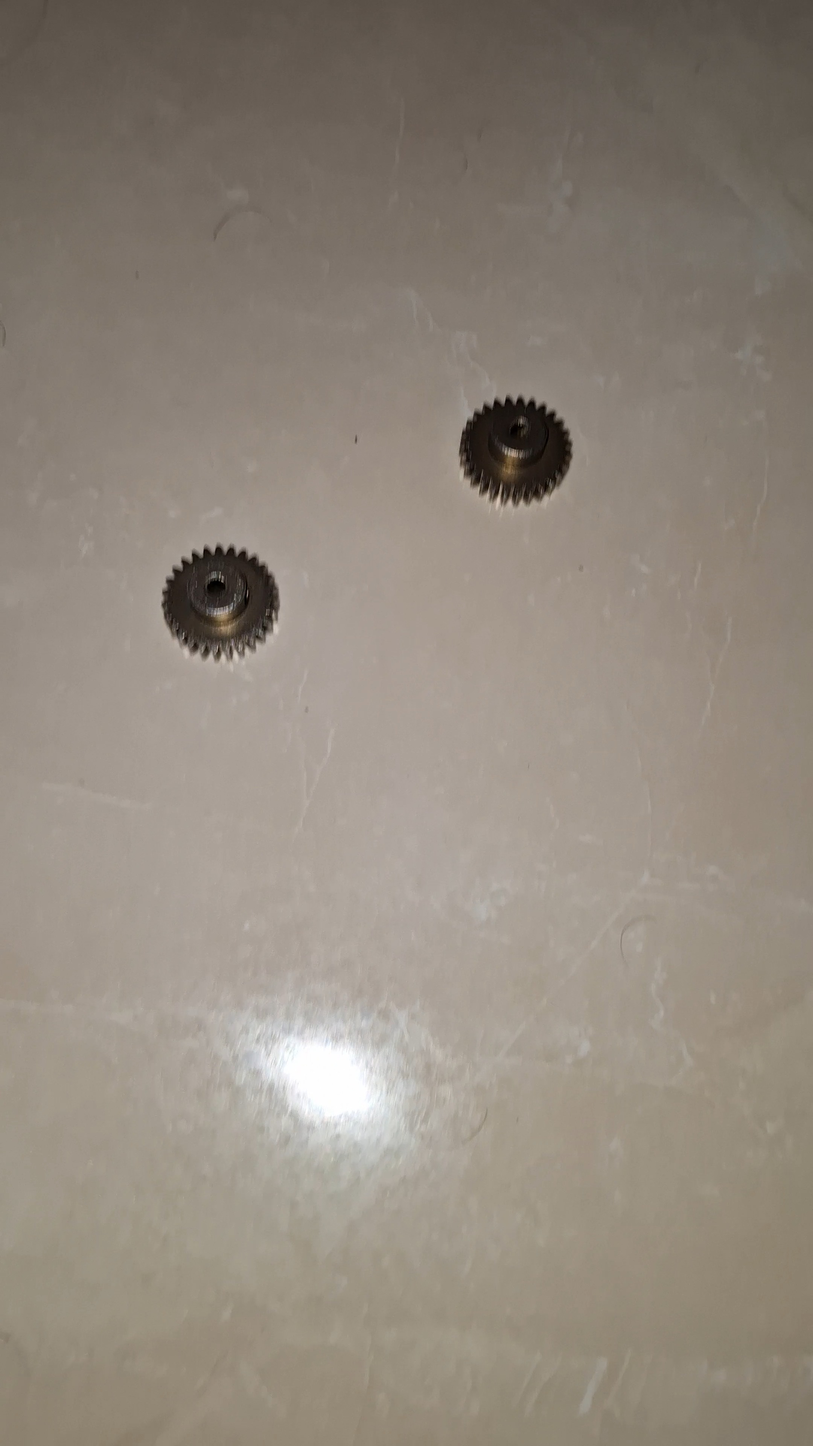spur gear: (163, 547, 279, 657), (460, 398, 571, 504)
